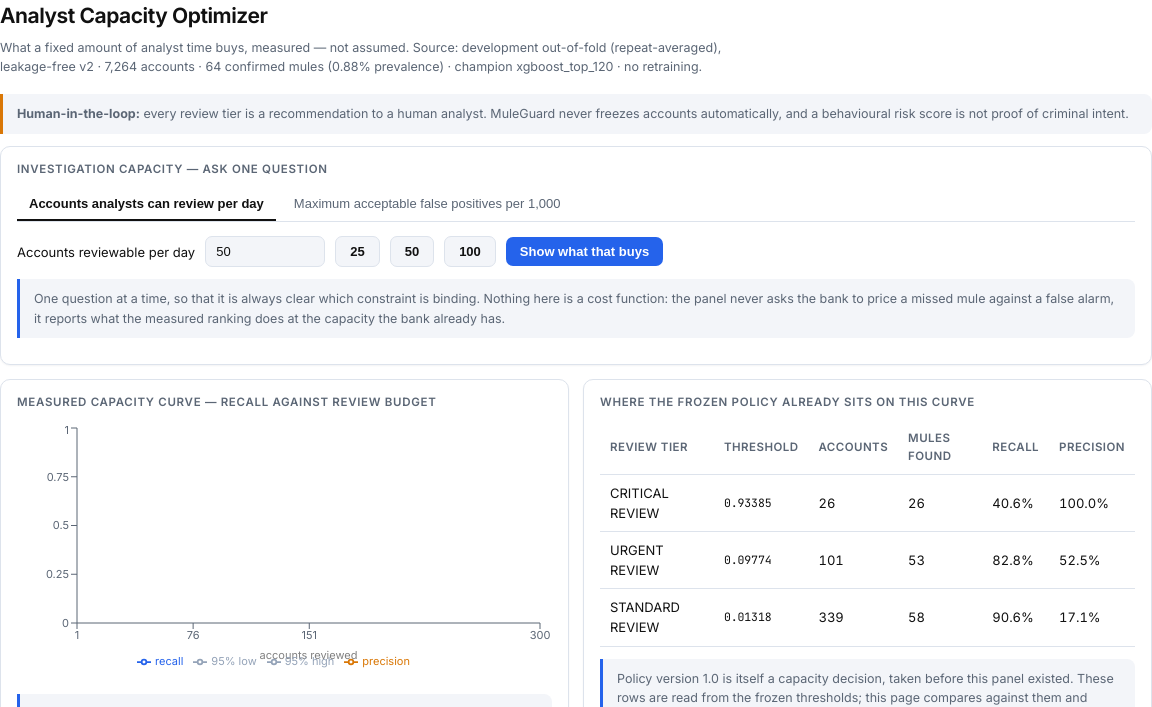
Test case: Analyst Capacity Optimizer › shows the answer and marks the threshold advisory, never applied
Check: the heading "Investigation capacity — ask one question" is shown, box x1=17 y1=162 x2=328 y2=176
What coordinates should you click on to do the following:
click the button "Show what that buys"
I would click on:
 (584, 252)
Its box is x1=506 y1=238 x2=663 y2=266.
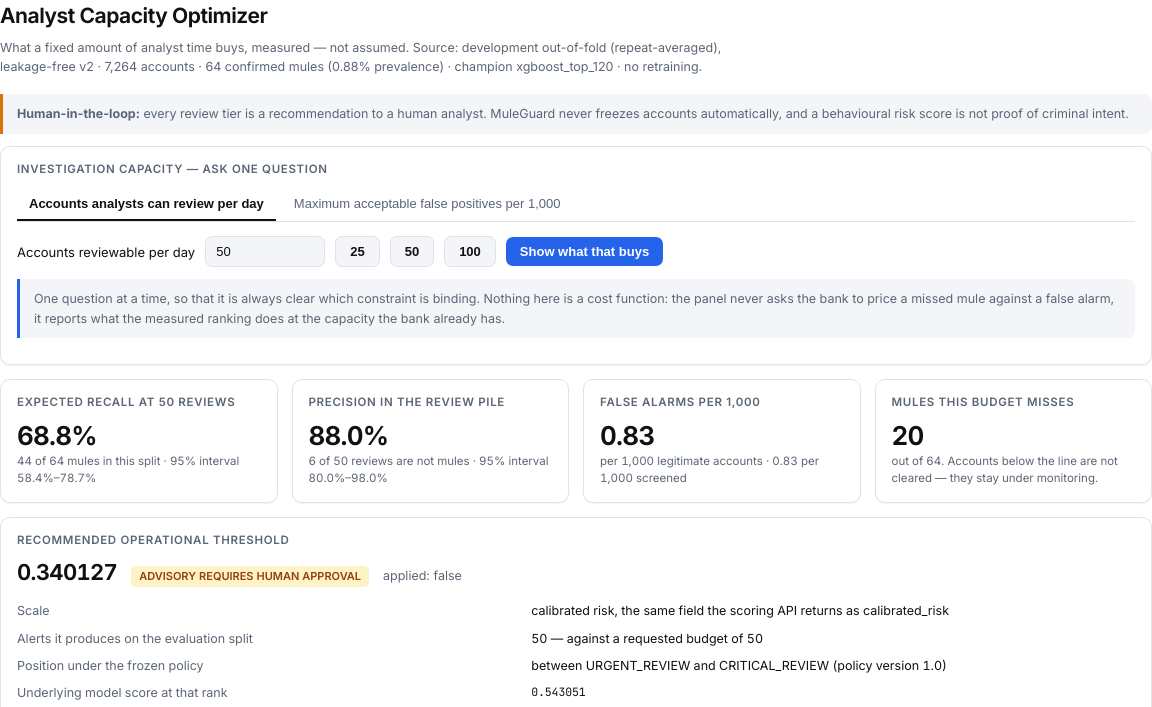
Check: the text "ADVISORY REQUIRES HUMAN APPROVAL" is shown, box x1=131 y1=566 x2=369 y2=587
Check: the text "applied: false" is shown, box x1=383 y1=566 x2=462 y2=586
Check: the heading "Recommended operational threshold" is shown, box x1=17 y1=533 x2=290 y2=547
